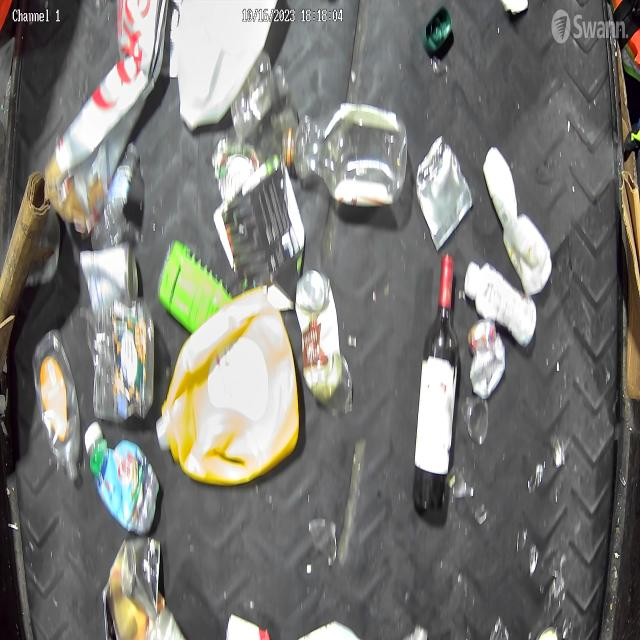can: (416, 133, 474, 250), (295, 270, 343, 401), (78, 242, 139, 310), (120, 534, 162, 618), (467, 316, 506, 399)
milk_jug: (177, 0, 277, 130)
non_white_jug: (157, 286, 300, 487), (84, 420, 161, 534)
plastic_bottle: (282, 106, 408, 212), (34, 327, 80, 484), (90, 137, 140, 250)
